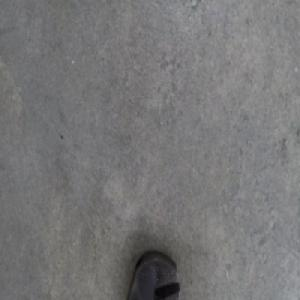AdjustableWrench: (127, 251, 181, 298)
